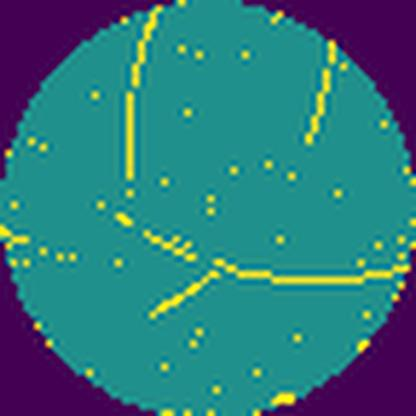Scratch: (115, 4, 166, 186), (211, 253, 412, 290), (301, 38, 346, 149), (145, 268, 224, 326), (139, 226, 203, 269)
